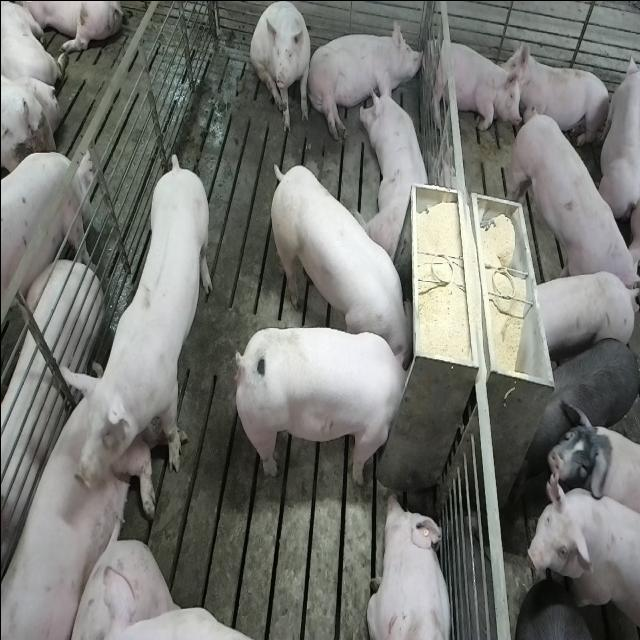Feeding: (264, 160, 412, 363), (228, 324, 410, 486)
Lateral_lying: (306, 16, 424, 141)
Sitting: (250, 1, 312, 134)
Standing: (55, 158, 212, 492), (505, 112, 635, 300), (524, 464, 638, 640), (0, 151, 94, 349), (521, 336, 638, 484), (548, 402, 640, 530), (530, 269, 634, 352), (514, 602, 638, 640)
Sternal_lying: (0, 374, 149, 634), (362, 69, 433, 258), (366, 490, 452, 640), (507, 40, 612, 154), (424, 34, 518, 134)
